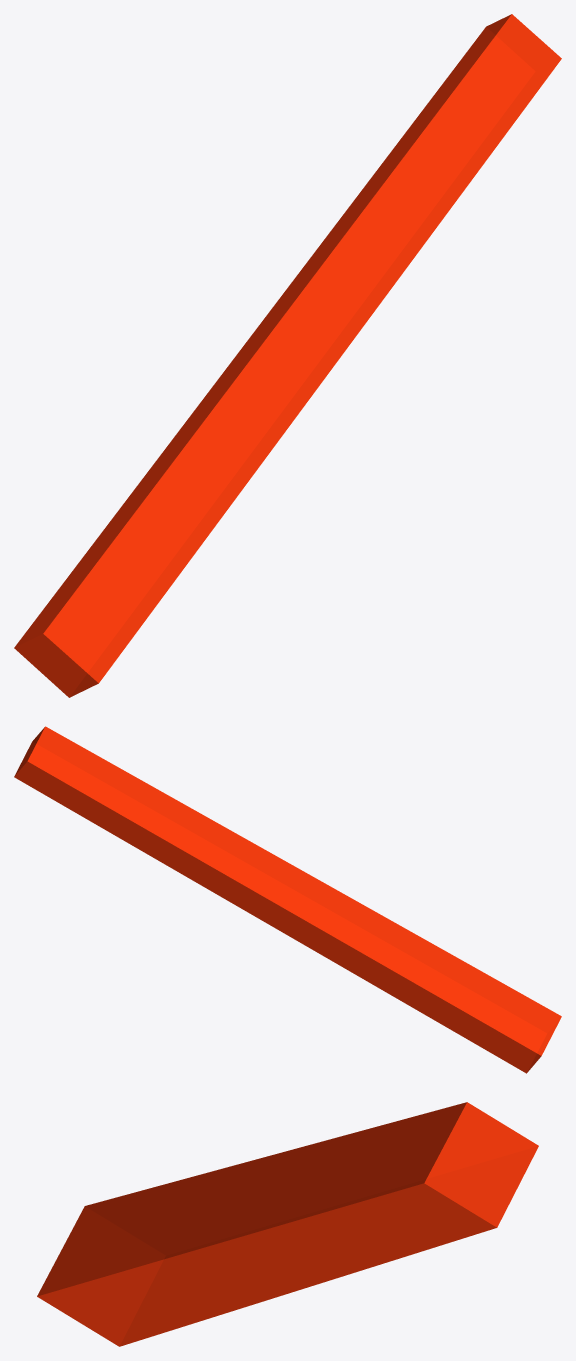
The model's file is Event_420094457_EBrechit_13.fbx.
The picture shows the model from 3 angles, top to bottom: view 1: azimuth 30°, elevation 25°; view 2: azimuth 150°, elevation 25°; view 3: azimuth 270°, elevation 25°; orthographic projection. The views are drawn at different scales.
Parts seen in each view (by area): view 1: Model; view 2: Model; view 3: Model.
Part boxes in pixels (<box>): Model: <box>14,14,561,697</box>; Model: <box>14,726,561,1073</box>; Model: <box>37,1102,538,1346</box>.
Bounding box in the file's own units: 0.6563 × 0.4438 × 0.3208.
